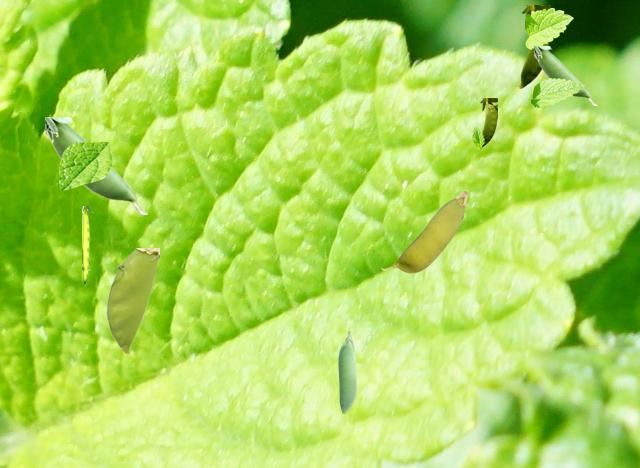pea: (45, 117, 146, 213), (381, 190, 467, 272), (106, 248, 158, 353), (534, 46, 596, 104), (515, 5, 549, 87), (338, 330, 355, 412), (476, 98, 496, 146), (82, 206, 92, 283)
